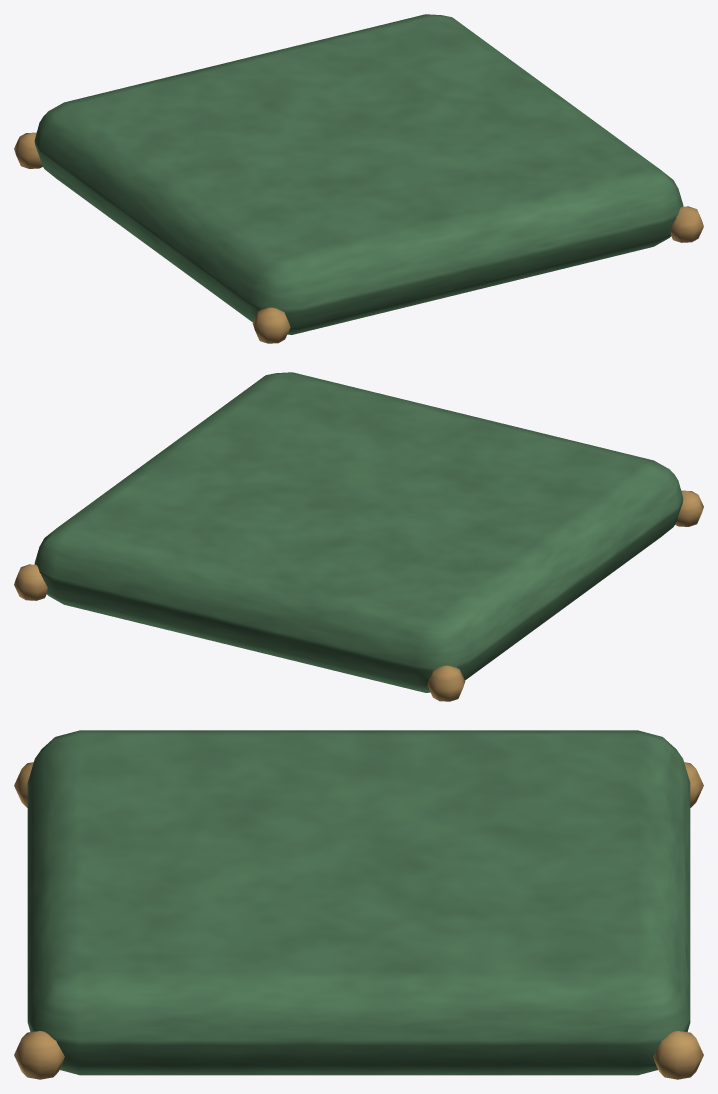
The model's file is Furn_Cushion.fbx.
The picture shows the model from 3 angles, top to bottom: view 1: azimuth 30°, elevation 25°; view 2: azimuth 150°, elevation 25°; view 3: azimuth 270°, elevation 25°; orthographic projection. The views are drawn at different scales.
Visible parts, largest first — view 1: Furn_Cushion_Mesh; view 2: Furn_Cushion_Mesh; view 3: Furn_Cushion_Mesh.
Boxes of the visible parts, x1,y1,x2,y2 form: Furn_Cushion_Mesh: (14,14,703,343); Furn_Cushion_Mesh: (14,372,703,701); Furn_Cushion_Mesh: (14,730,703,1079).
Bounding box in the file's own units: 0.5 × 0.08 × 0.5.
Materials: 2 (2 with a texture image).
